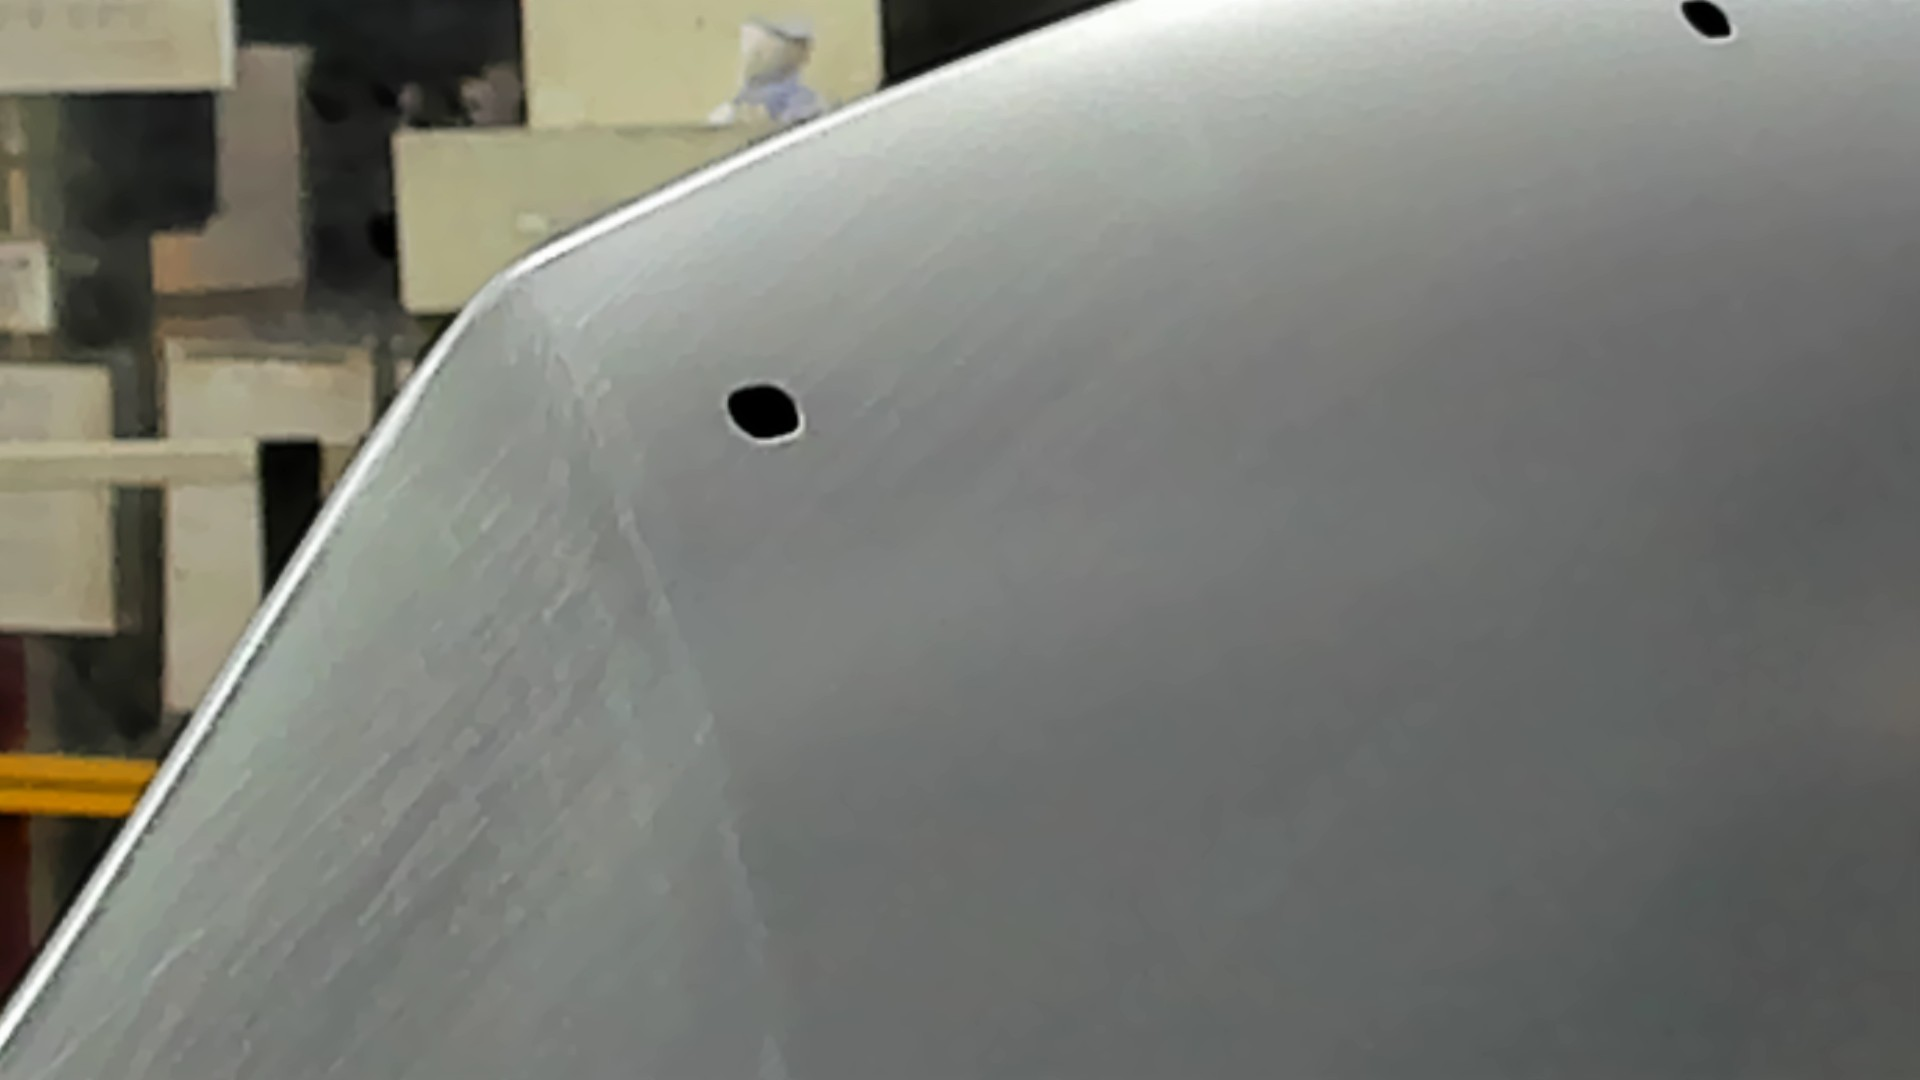amorfo: (717, 378, 806, 448), (1669, 1, 1739, 46)
